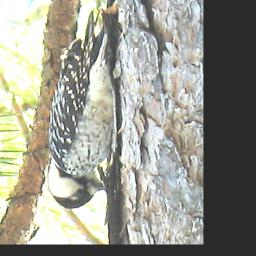Woodpecker: (47, 5, 118, 210)
